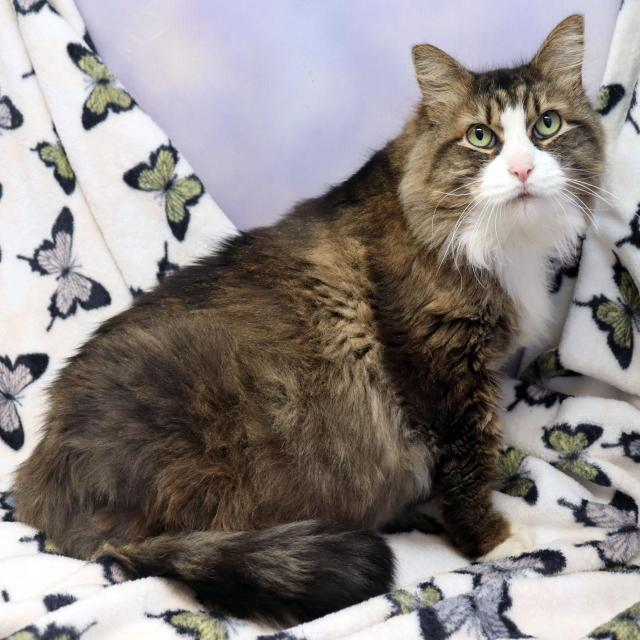maine_coon_cat: (378, 4, 615, 271)
